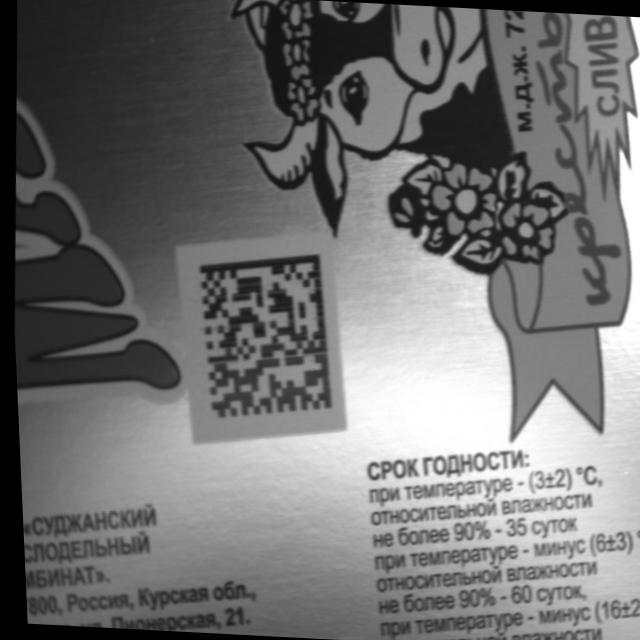datamatrix: (187, 248, 338, 425)
